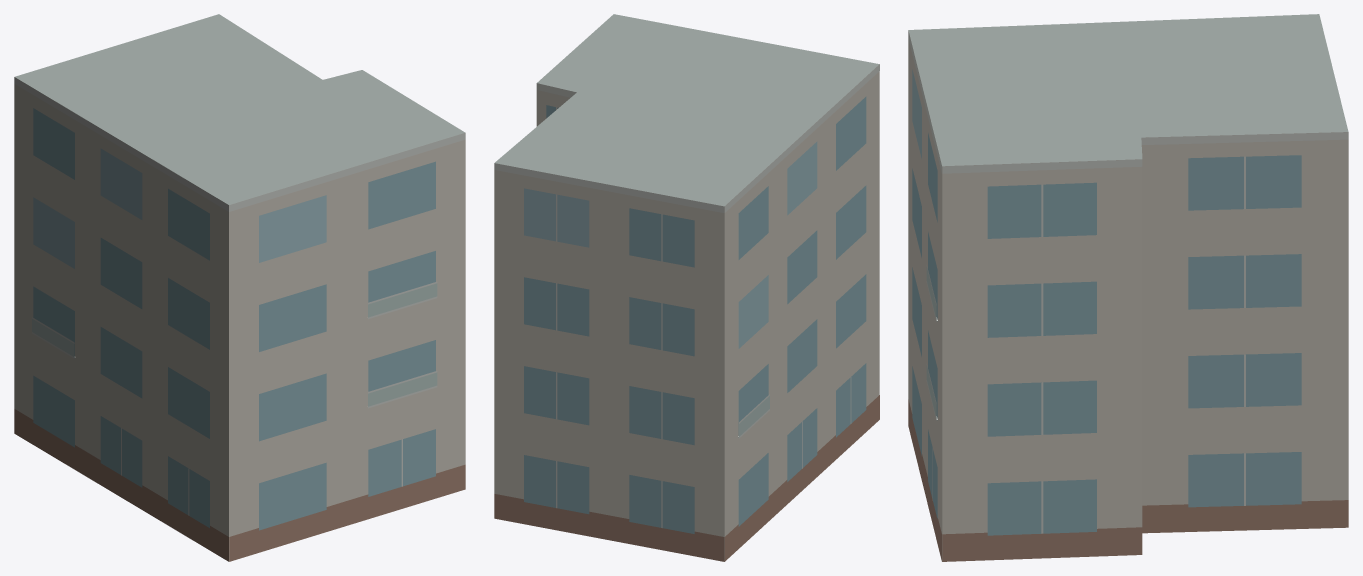
File: survey-upis-32661194.glb
3 views of the same model, side by side, from view 1: azimuth 30°, elevation 25°; view 2: azimuth 150°, elevation 25°; view 3: azimuth 270°, elevation 25° (orthographic). The views are drawn at different scales.
Parts seen in each view (by area): view 1: survey-upis-32661194.tmp; view 2: survey-upis-32661194.tmp; view 3: survey-upis-32661194.tmp.
Part boxes in pixels (x1,y1,x2,y2): survey-upis-32661194.tmp: (14,14,465,561); survey-upis-32661194.tmp: (494,14,879,561); survey-upis-32661194.tmp: (908,14,1348,561).
Size of the model in its own units: 10.49 by 12.7 by 12.82.
